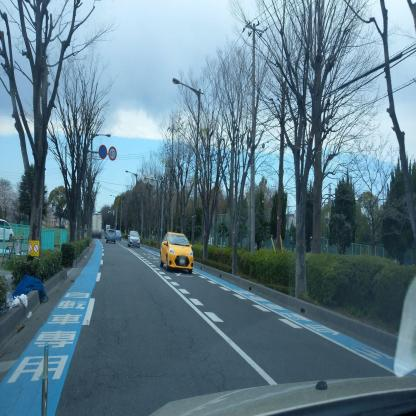Someiyoshino: (0, 173, 18, 218), (42, 194, 58, 223)
